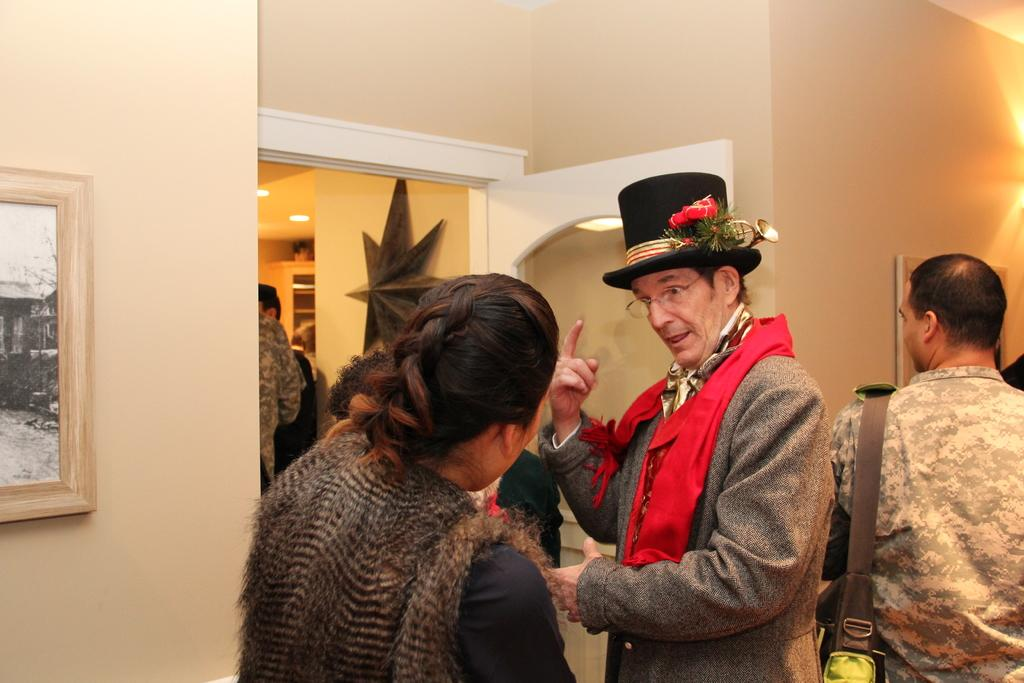Hat: (601, 170, 761, 288)
